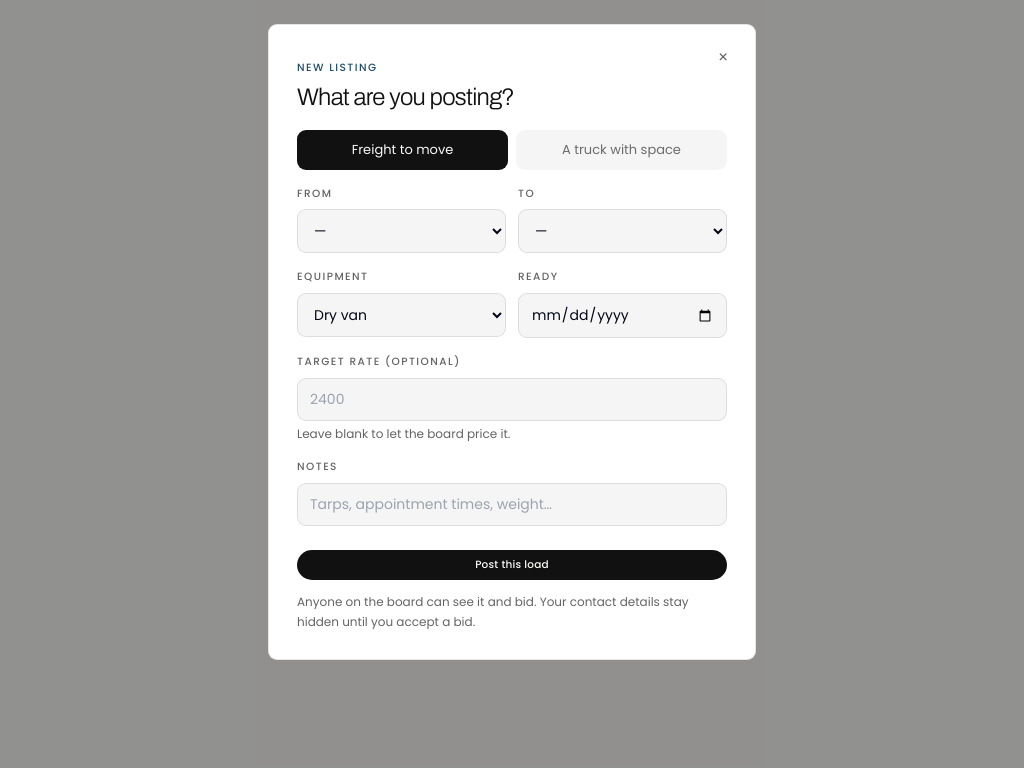
PostListing › 1.1 live + user === null -> createListing not called, error surfaced, localStorage untouched
Select "Memphis" in the dropdown labelled "From" at (402, 231), box top-left (297, 209), bottom-right (506, 253)
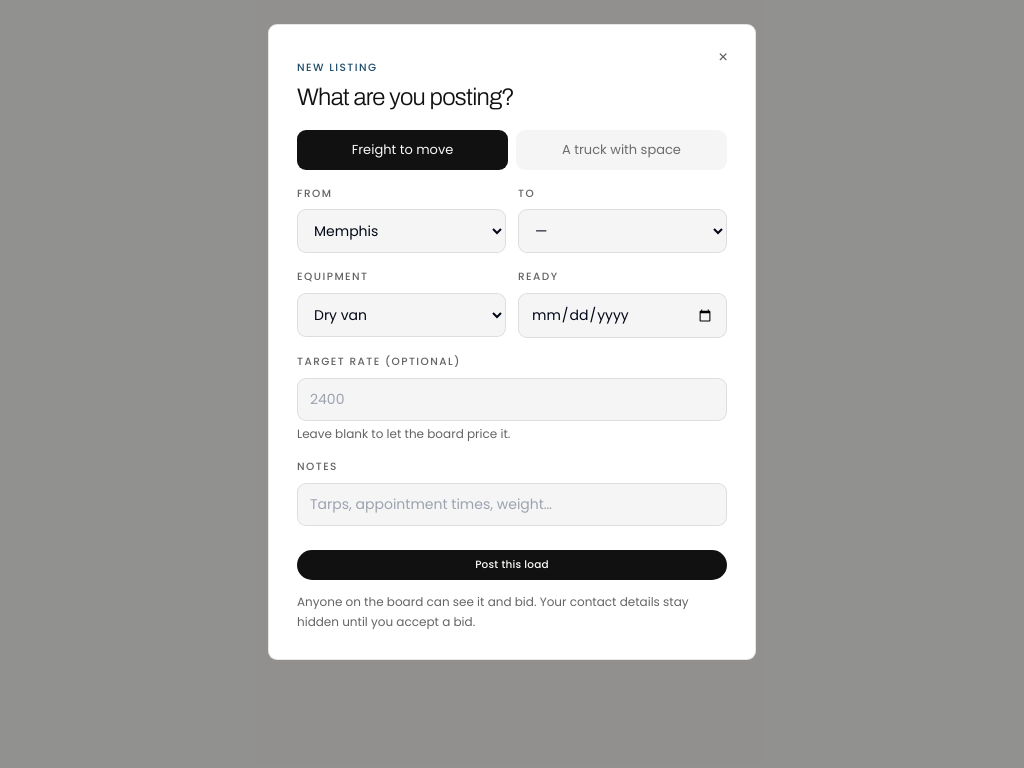
Select "Chicago" in the dropdown labelled "To" at (622, 231), box top-left (518, 209), bottom-right (727, 253)
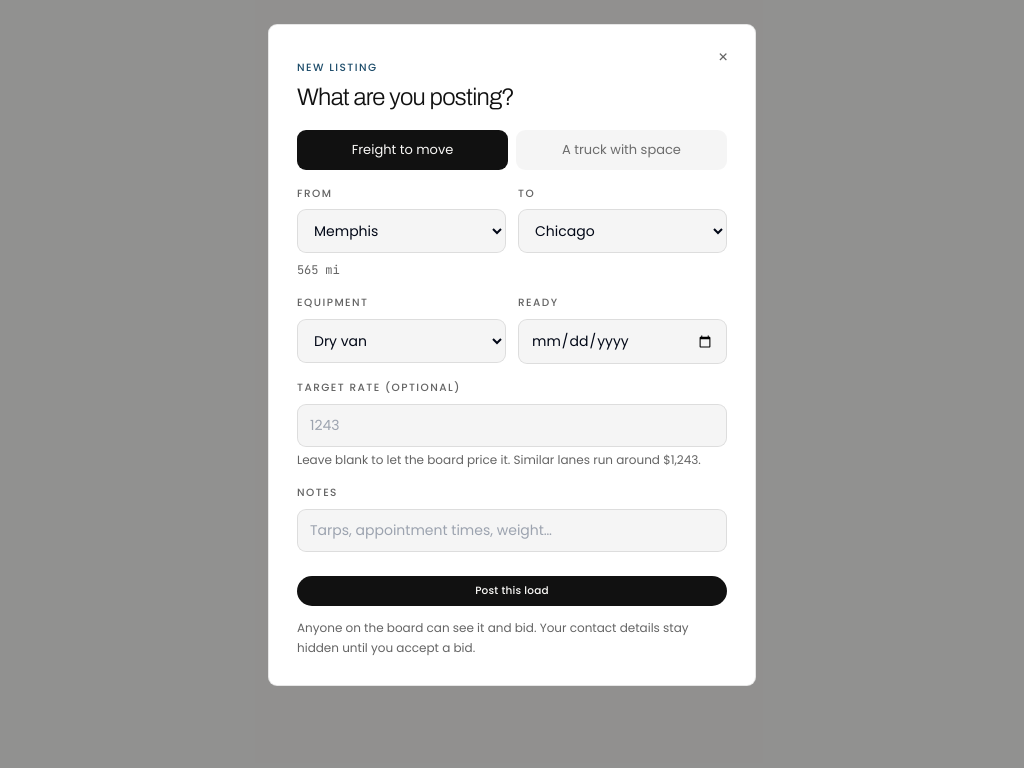
Click the button "Post this load" at (512, 591), box top-left (297, 576), bottom-right (727, 606)
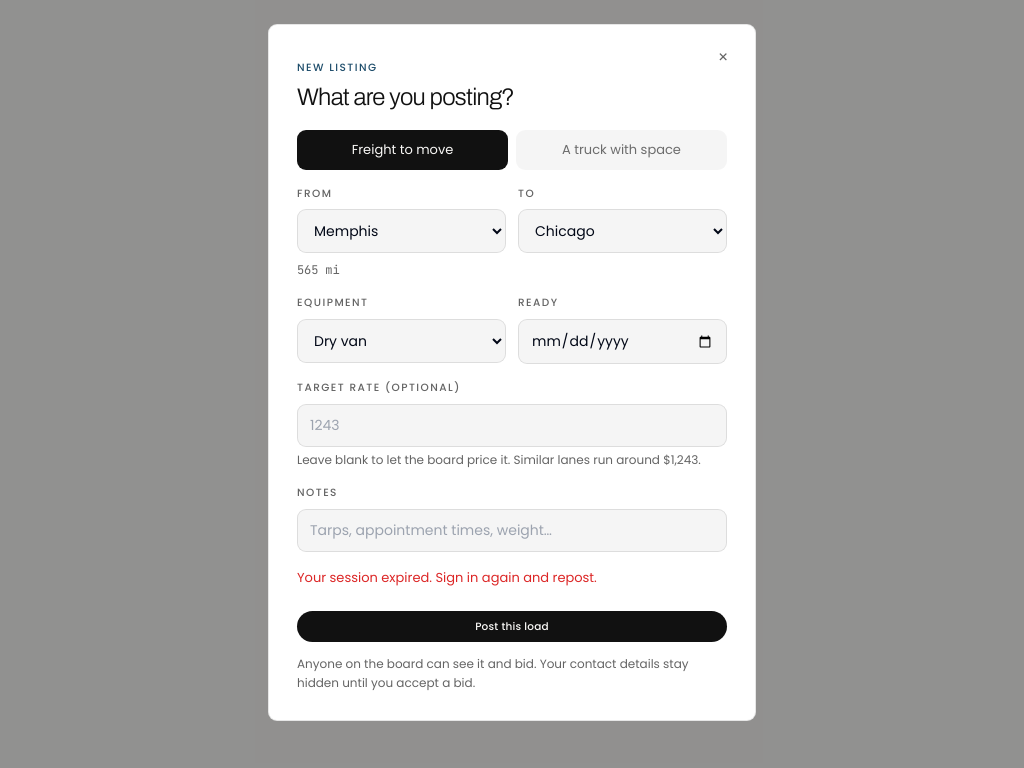
Now the message shows "Your session expired", box top-left (297, 568), bottom-right (597, 587)
